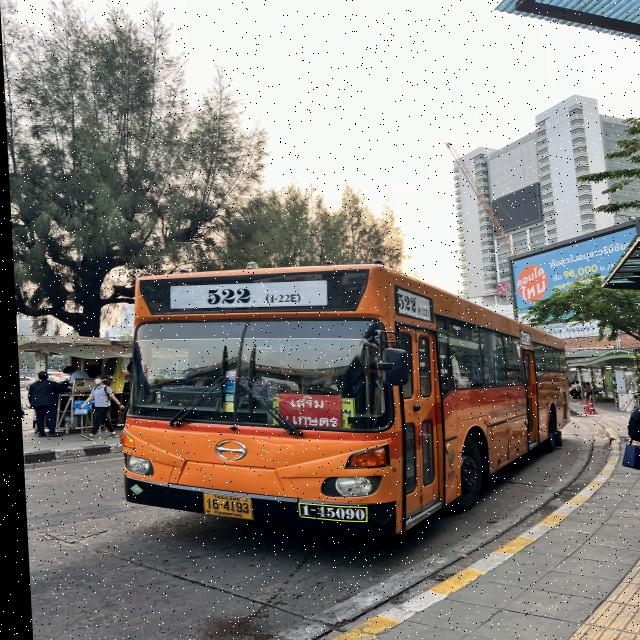BMTA-bus: (106, 264, 572, 540)
Bus-Line-Number: (187, 280, 303, 308)
Destination-Sign-Extra-Bus: (273, 394, 336, 429)
